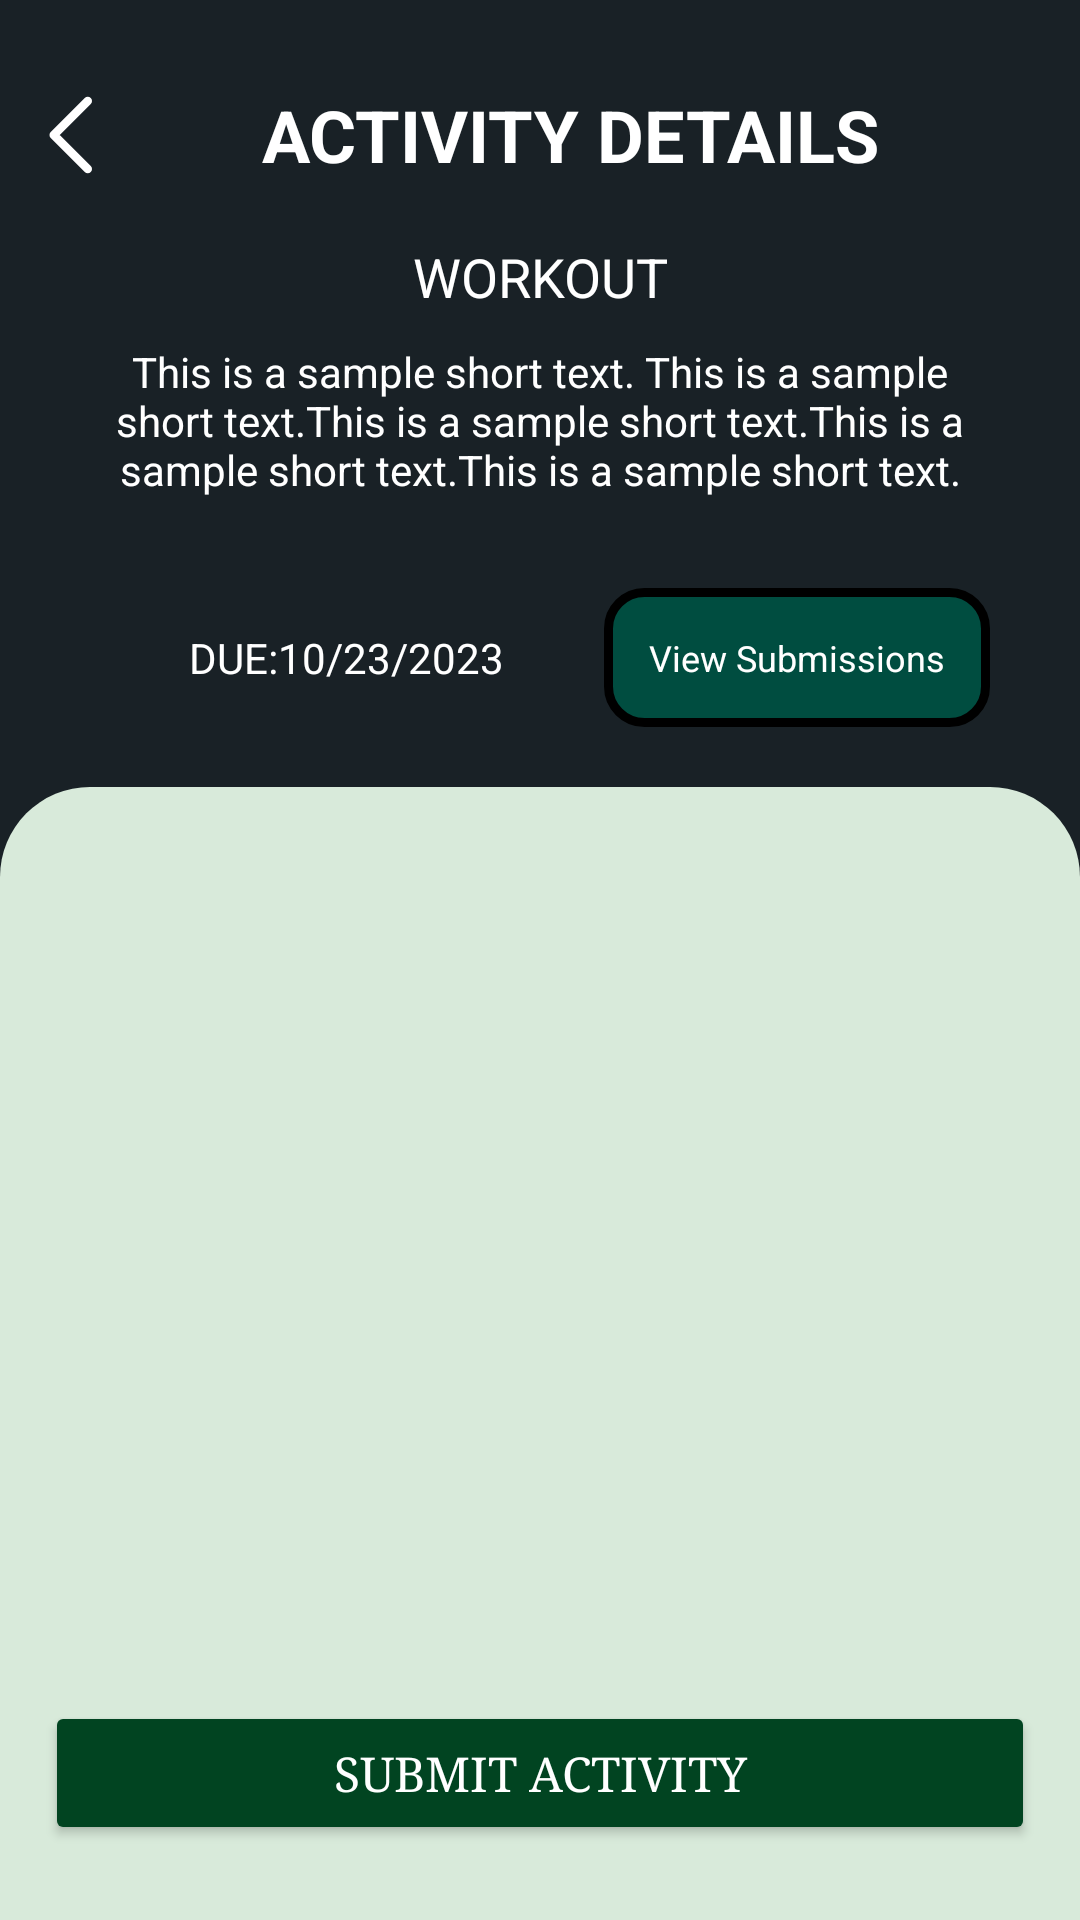

Screen size 1080x1920. Icon name, then its center in pixels as point (x, y):
Back: point (70, 135)
